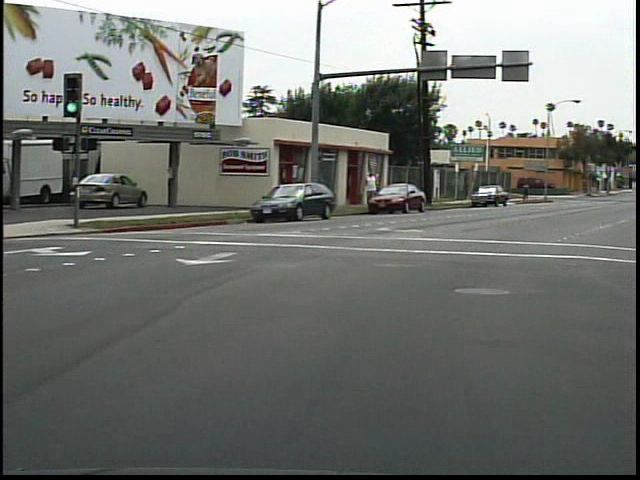person: (362, 166, 384, 211), (522, 179, 534, 204)
